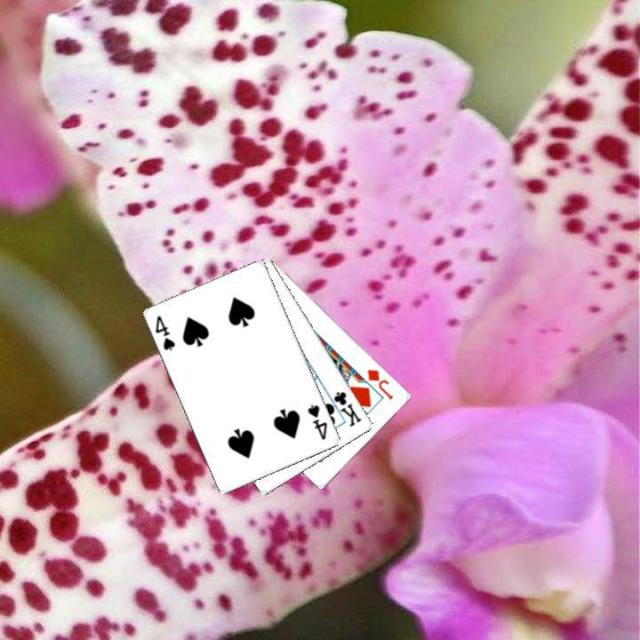4S: (304, 401, 330, 442), (152, 311, 177, 352)
JD: (364, 365, 396, 402)
KC: (324, 388, 364, 428)
